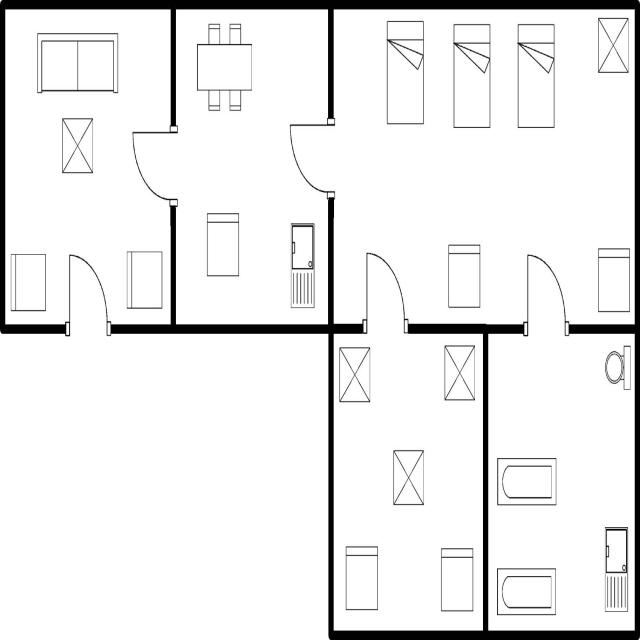bed: (448, 20, 494, 135), (514, 18, 558, 135), (382, 16, 427, 129)
coffee_table: (389, 443, 427, 513), (58, 113, 97, 179), (440, 340, 478, 406), (595, 13, 632, 79), (336, 341, 373, 406)
dining_table: (192, 16, 256, 117)
large_sink: (600, 341, 633, 398)
large_sofa: (34, 27, 123, 100)
sink: (286, 218, 317, 313), (602, 520, 632, 617)
small_sofa: (204, 207, 244, 283), (341, 541, 381, 617), (594, 242, 632, 320), (436, 542, 476, 616), (444, 240, 483, 314), (7, 248, 50, 315), (124, 245, 164, 313)
tub: (494, 451, 560, 512), (493, 562, 560, 621)
